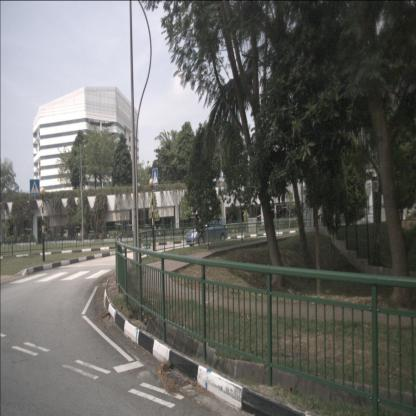vehicle-car: (186, 216, 228, 248)
